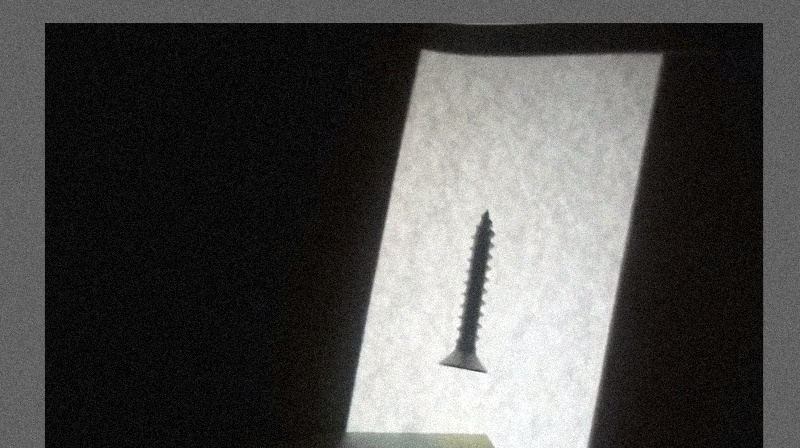S001: (434, 207, 500, 375)
